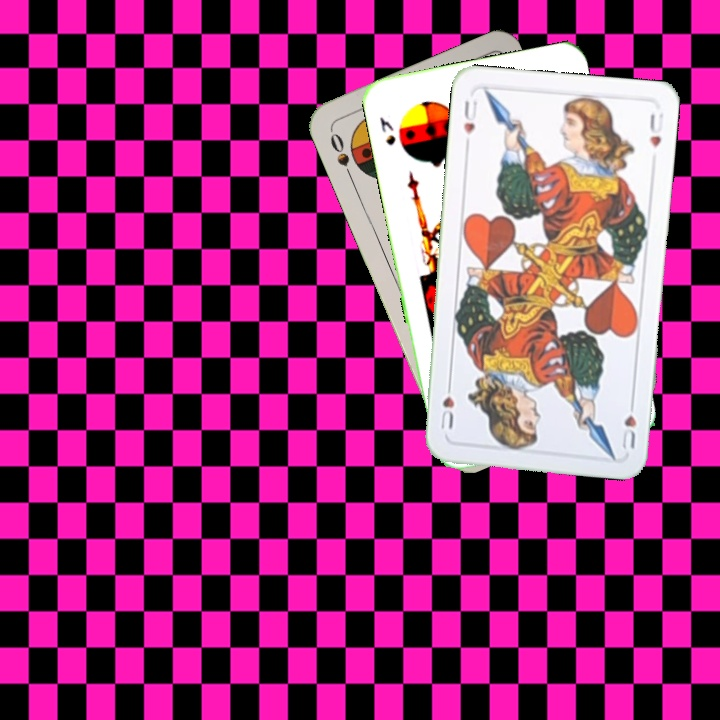HU: (618, 394, 639, 452), (459, 95, 481, 138)
SK: (375, 113, 398, 148)
SO: (326, 129, 356, 182)
